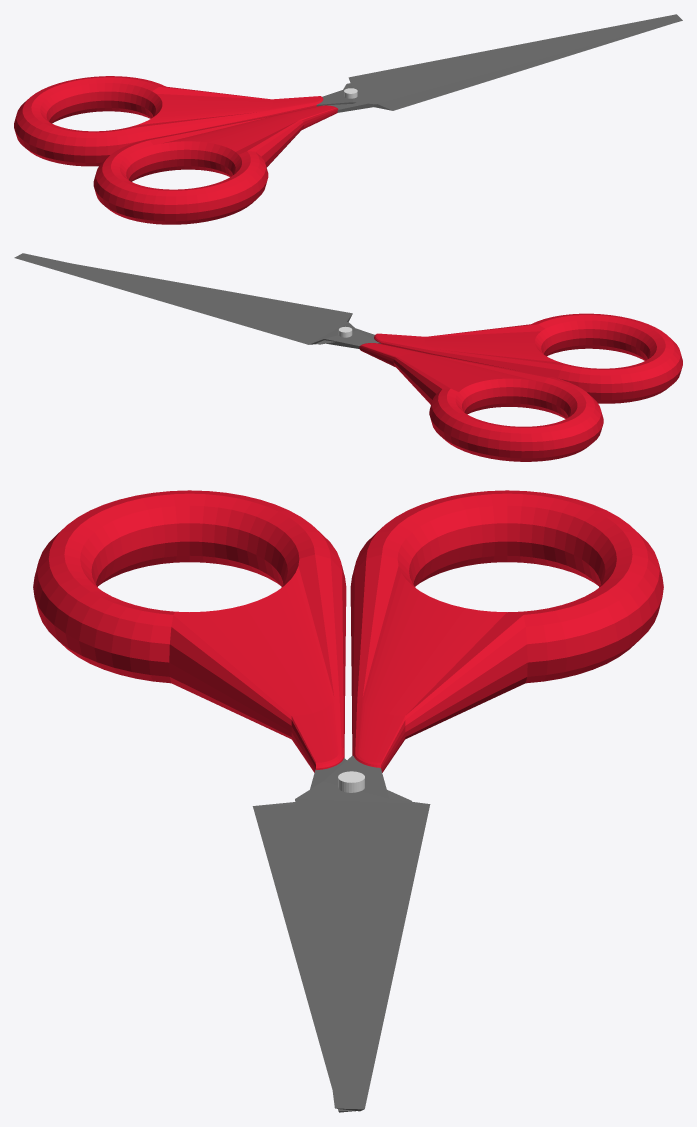
The model's file is わたりやすいハサミ.fbx.
3 renders of one model, top to bottom at view 1: azimuth 30°, elevation 25°; view 2: azimuth 150°, elevation 25°; view 3: azimuth 270°, elevation 25°, orthographic. The views are drawn at different scales.
Visible parts, largest first — view 1: トーラス.001, トーラス; view 2: トーラス.001, トーラス; view 3: トーラス.001, トーラス.
Boxes of the visible parts, left/top/right/bottom form: トーラス.001: left=14, top=14, right=682, bottom=166; トーラス: left=93, top=20, right=682, bottom=224; トーラス.001: left=14, top=253, right=603, bottom=461; トーラス: left=75, top=264, right=682, bottom=403; トーラス.001: left=295, top=490, right=663, bottom=1111; トーラス: left=33, top=490, right=411, bottom=1112.
Size of the model in its own units: 988 by 50 by 438.
